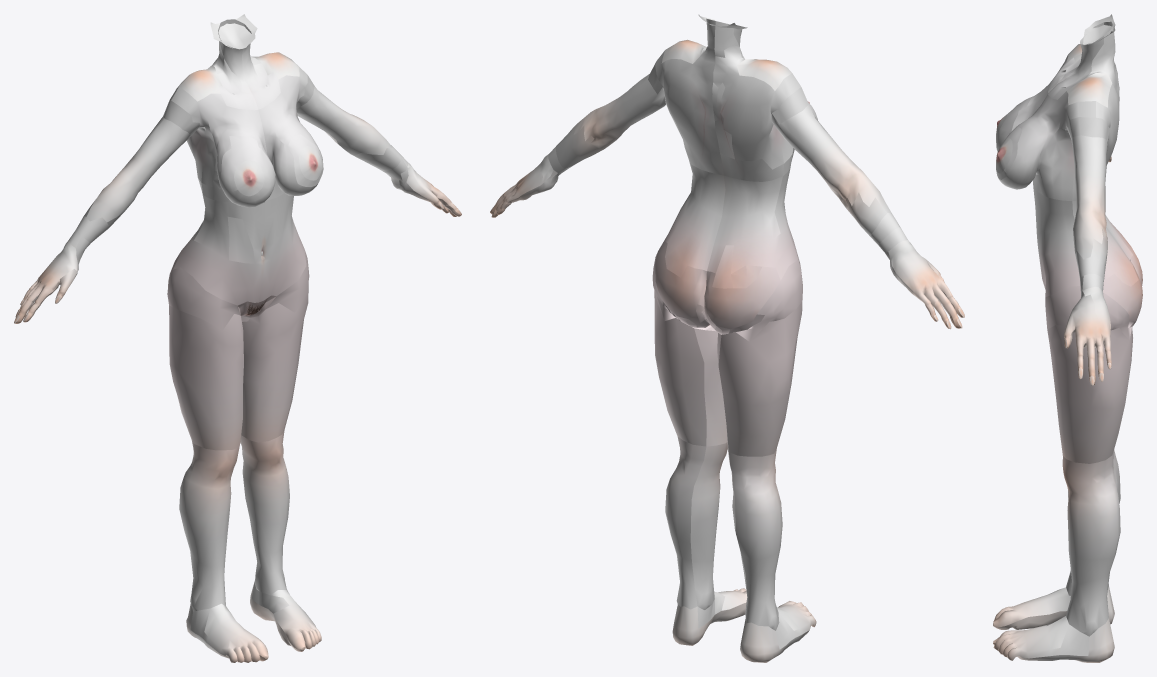
The model's file is bodyFlorina.obj.
The picture shows the model from 3 angles, left to right: view 1: azimuth 30°, elevation 25°; view 2: azimuth 150°, elevation 25°; view 3: azimuth 270°, elevation 25°; orthographic projection. The views are drawn at different scales.
Visible parts, largest first — view 1: Material_2_Florina.002; view 2: Material_2_Florina.002; view 3: Material_2_Florina.002.
Boxes of the visible parts, x1=… form: Material_2_Florina.002: x1=14, y1=14, x2=461, y2=662; Material_2_Florina.002: x1=490, y1=14, x2=964, y2=662; Material_2_Florina.002: x1=993, y1=14, x2=1142, y2=662.
Bounding box in the file's own units: 14.05 × 18.19 × 3.98.
